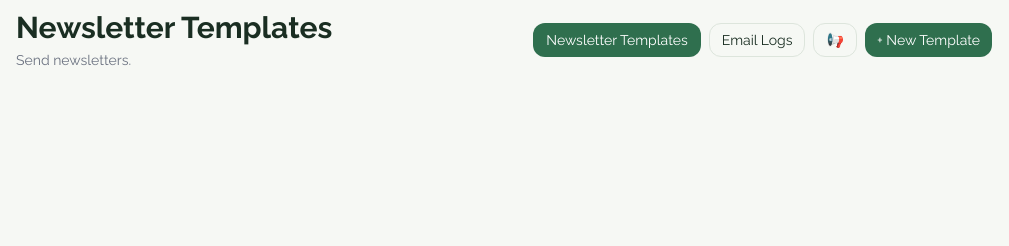
it: NewsletterPage (template UI) › loads email logs when Email Logs tab is clicked
Click the button with test id "logs-tab-btn".
click(757, 40)  # box [709,23,805,57]
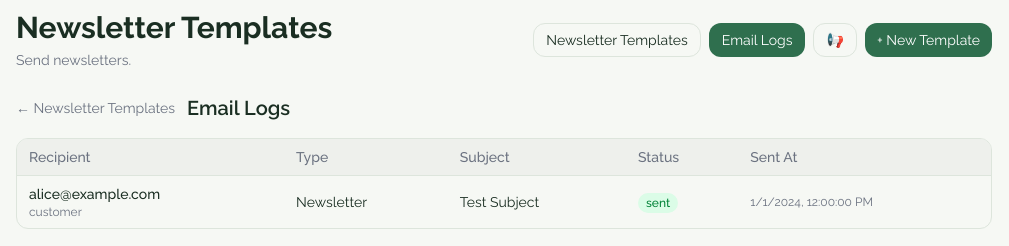
expect the table with test id "logs-table" is shown: met, box [17,139,991,228]
expect the text "alice@example.com" is shown: met, box [29,186,160,202]
